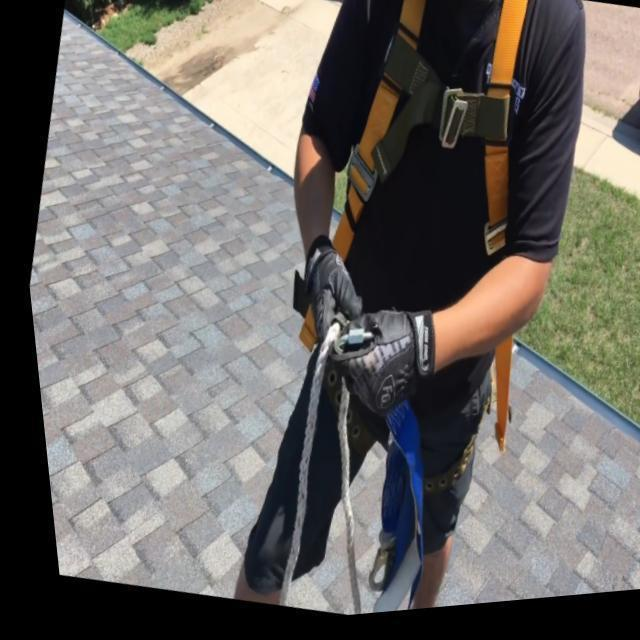Harness: (335, 0, 528, 260)
